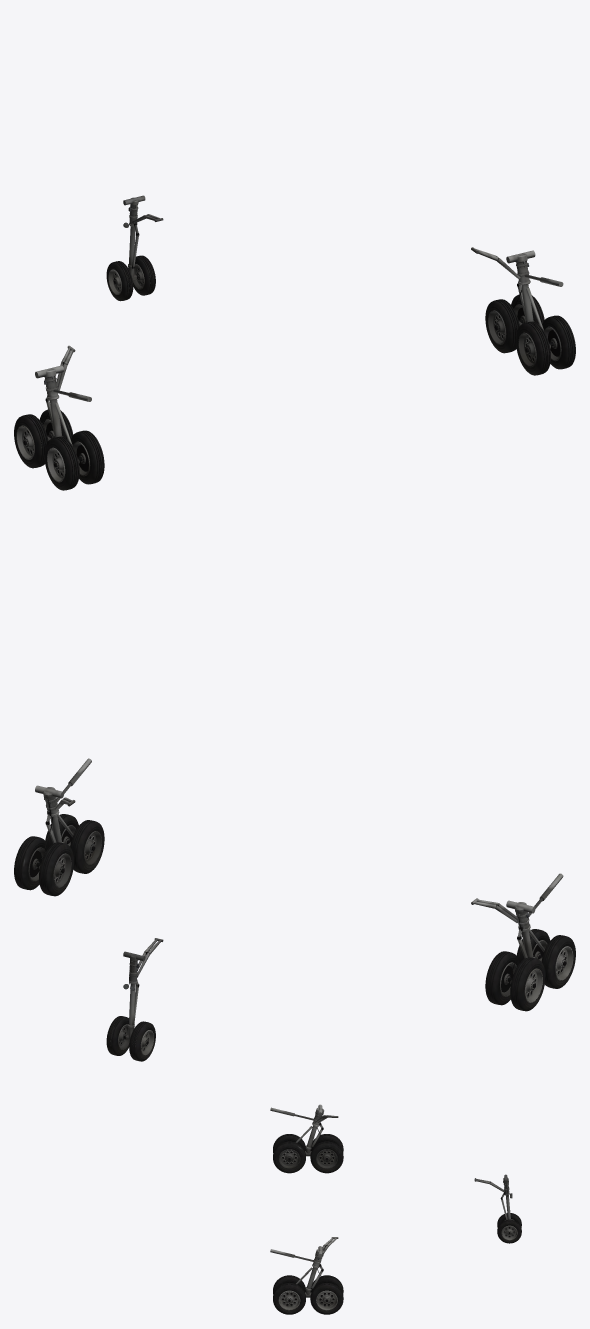
File: e_b2_gear.glb
The picture shows the model from 3 angles, top to bottom: view 1: azimuth 30°, elevation 25°; view 2: azimuth 150°, elevation 25°; view 3: azimuth 270°, elevation 25°; orthographic projection. The views are drawn at different scales.
Visible parts, largest first — view 1: body|B2_paint; view 2: body|B2_paint; view 3: body|B2_paint.
Boxes of the visible parts, x1,y1,x2,y2 form: body|B2_paint: (14,195,575,490); body|B2_paint: (14,758,575,1061); body|B2_paint: (270,1104,521,1314).
Bounding box in the file's own units: 13.54 × 6.15 × 20.99.
Materials: 2 (1 with a texture image).
